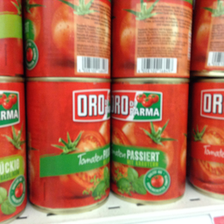tomato_sauce: (26, 77, 113, 212), (113, 77, 190, 204), (24, 1, 113, 78), (112, 1, 191, 77), (189, 77, 224, 194)
